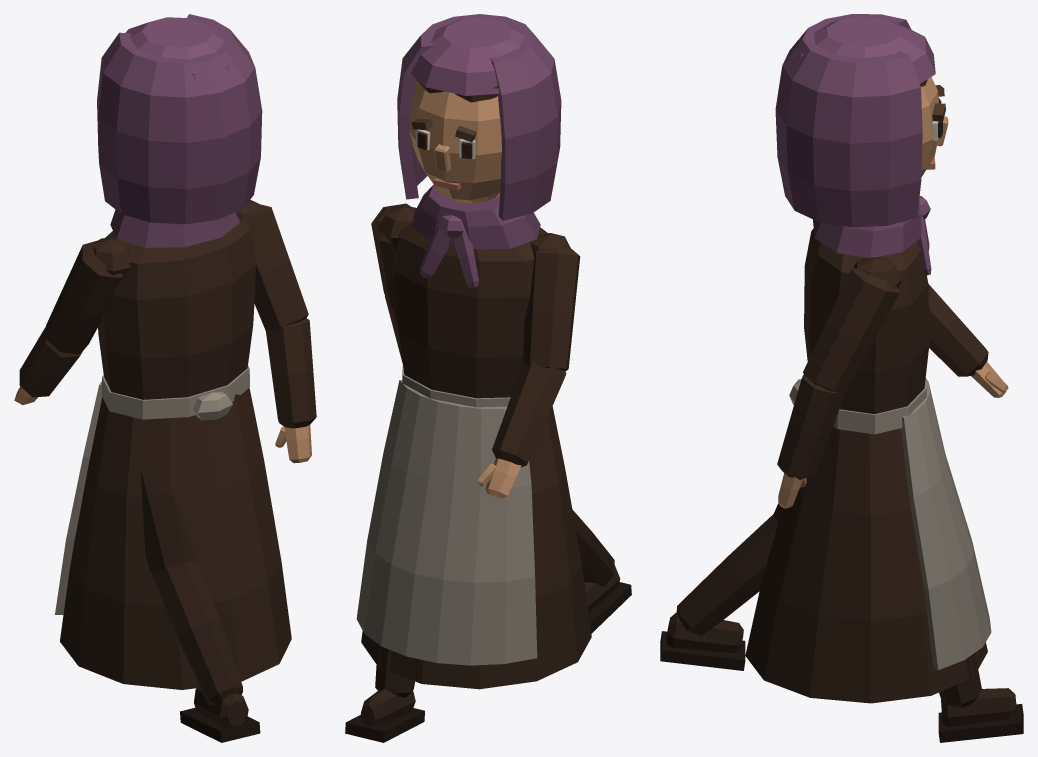
The model's file is chr_helena_w2.glb.
3 renders of one model, left to right at view 1: azimuth 30°, elevation 25°; view 2: azimuth 150°, elevation 25°; view 3: azimuth 270°, elevation 25°, orthographic. The views are drawn at different scales.
Visible parts, largest first — view 1: chr_helena_w2; view 2: chr_helena_w2; view 3: chr_helena_w2.
Part boxes in pixels (x1,y1,x2,y2): chr_helena_w2: (14, 14, 316, 742); chr_helena_w2: (345, 14, 631, 742); chr_helena_w2: (660, 14, 1023, 742).
Size of the model in its own units: 0.5556 by 1.62 by 0.78.
